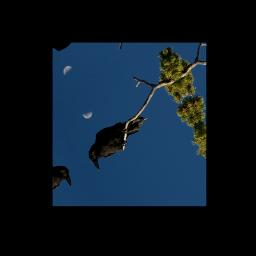Crow: (81, 105, 157, 173)
